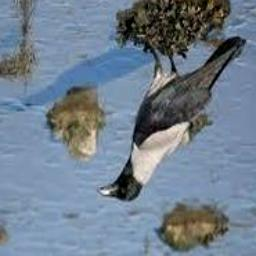Crow: (95, 35, 246, 203)
